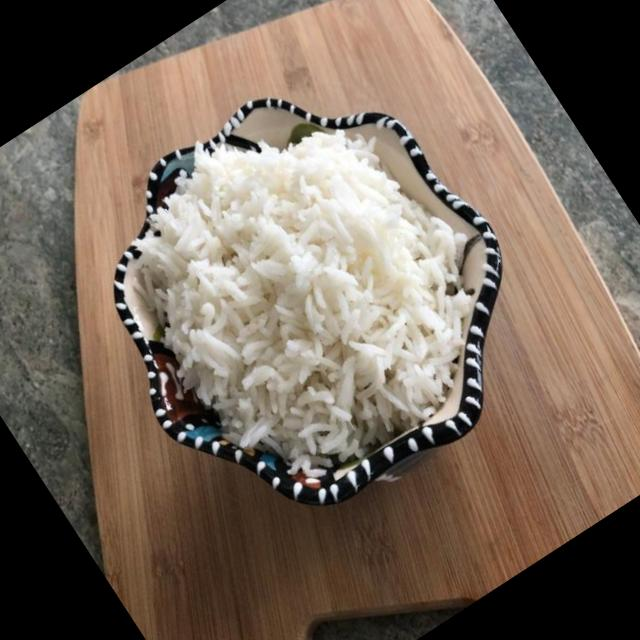rice: (140, 135, 461, 468)
